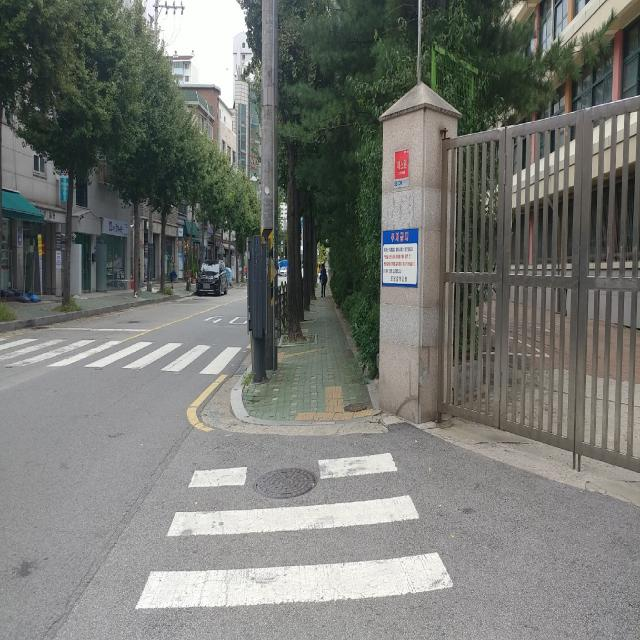횡단보도: (133, 450, 455, 613), (2, 330, 238, 381)
